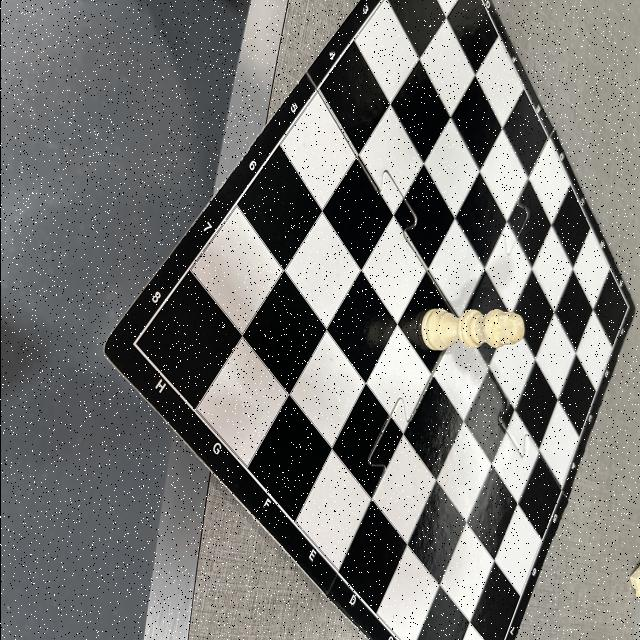White-King: (419, 308, 524, 352)
